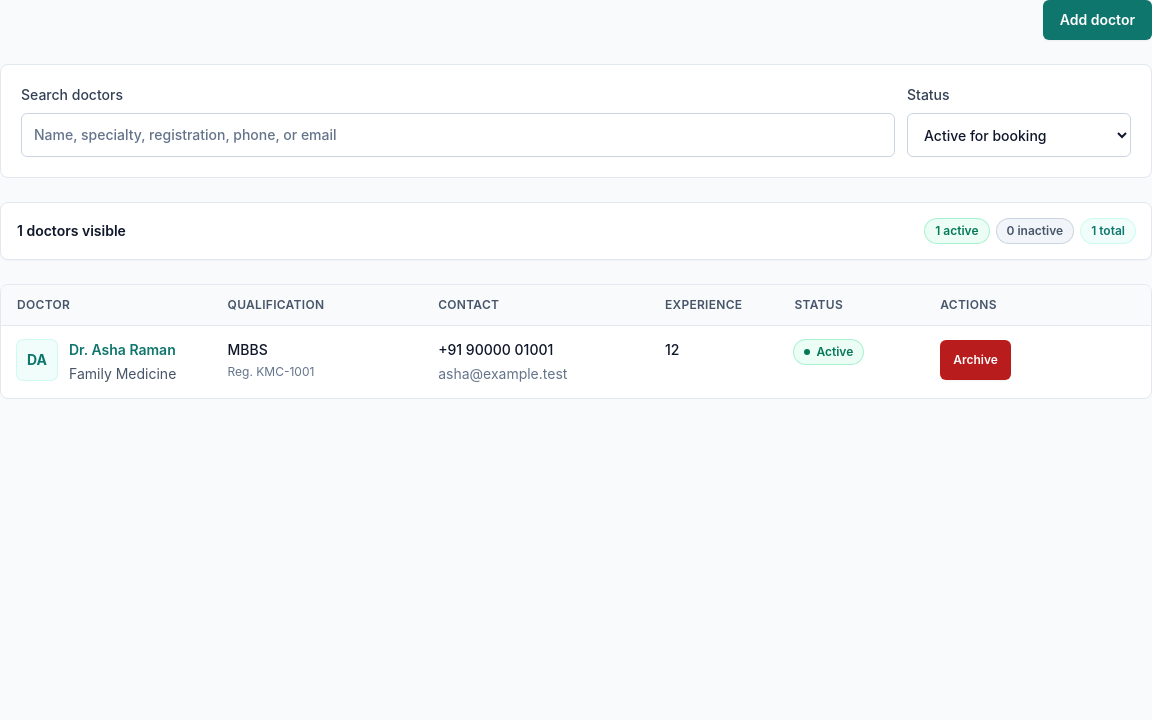
Scenario: DoctorsPage edit workflow › validates client fields before submitting
Click the button with aria-label "view profile for dr. asha raman".
click(122, 350)  # box [69, 340, 176, 360]
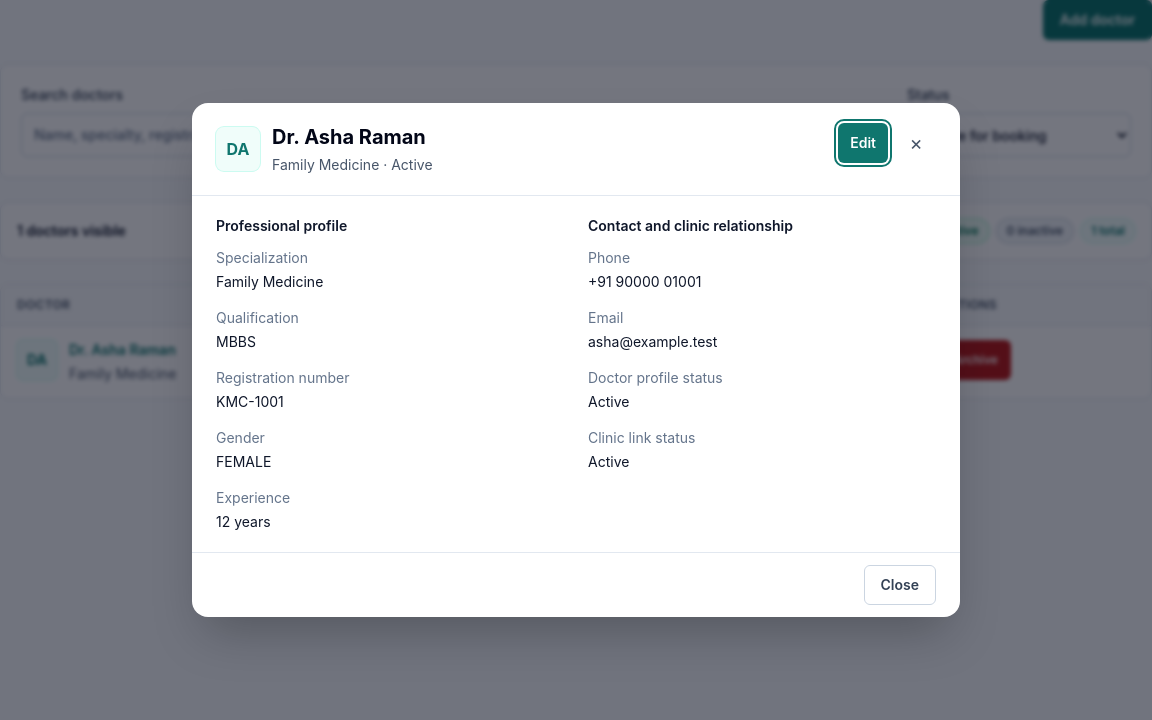
Click the button "Edit".
click(863, 143)  # box [838, 123, 888, 163]
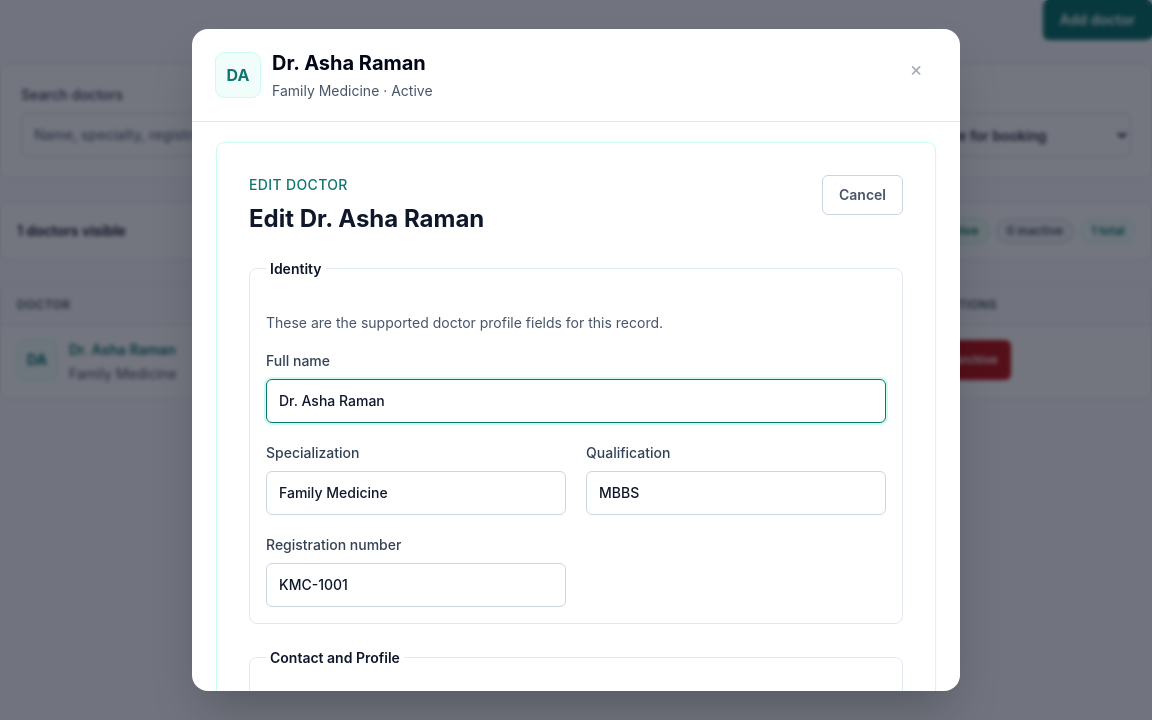
Replace the text in the field labelled "Full name" with "A" at [576, 401], box [266, 379, 886, 423]
(page scrolled)
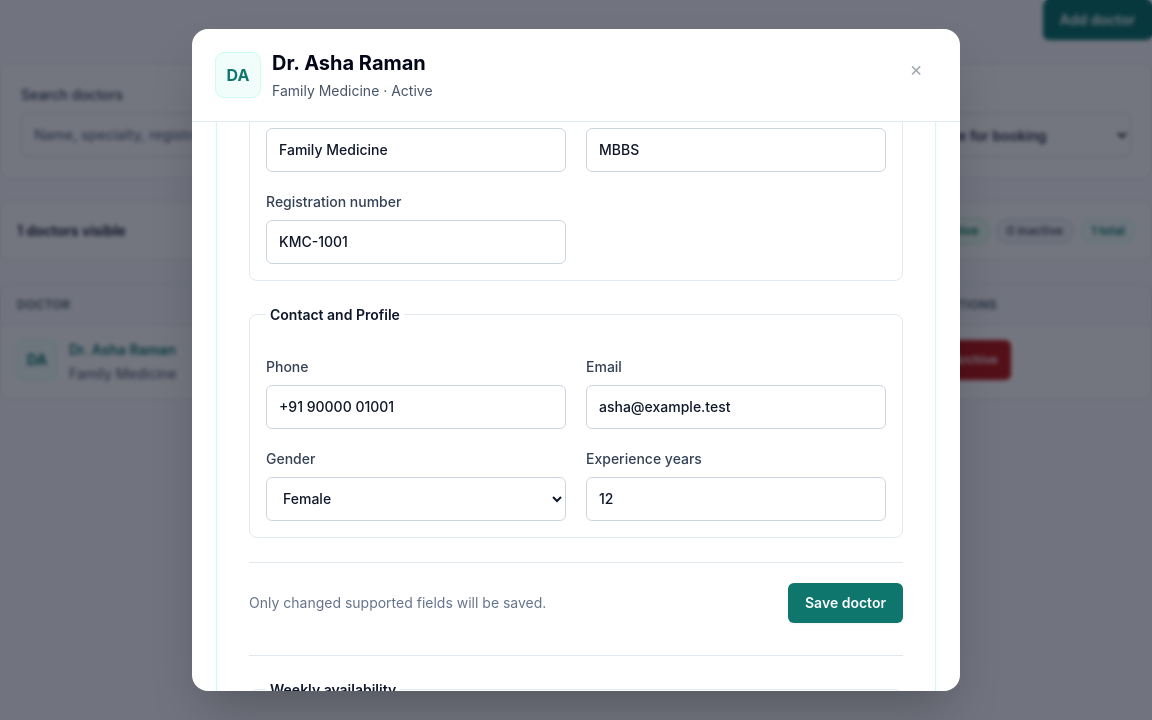
Replace the text in the field labelled "Email" with "not-an-email" at [736, 407], box [586, 385, 886, 429]
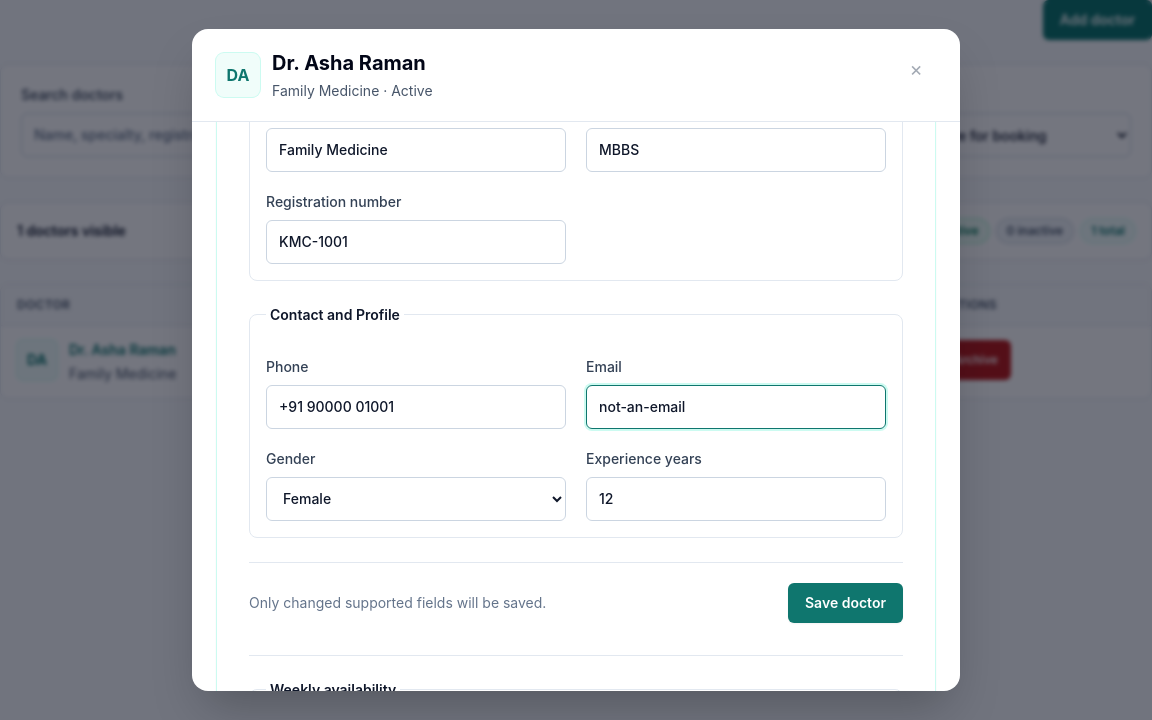
Replace the text in the field labelled "Experience years" with "-1" at [736, 499], box [586, 477, 886, 521]
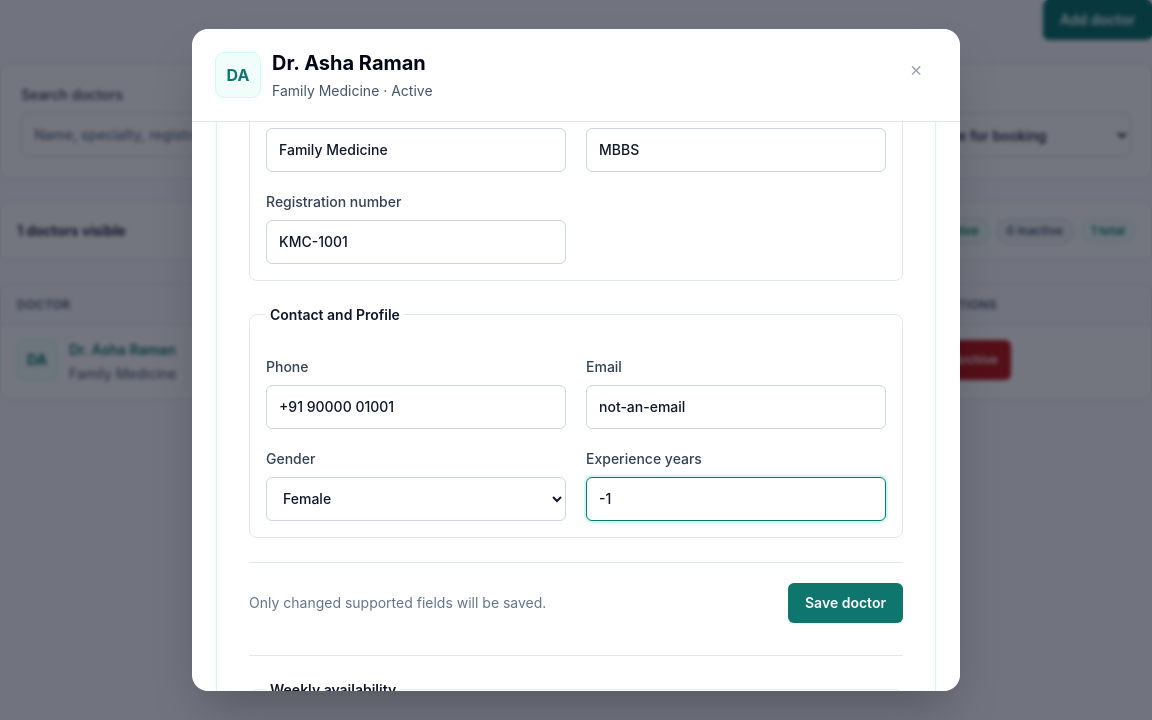
Click the button "Save doctor".
click(846, 603)  # box [788, 583, 903, 623]
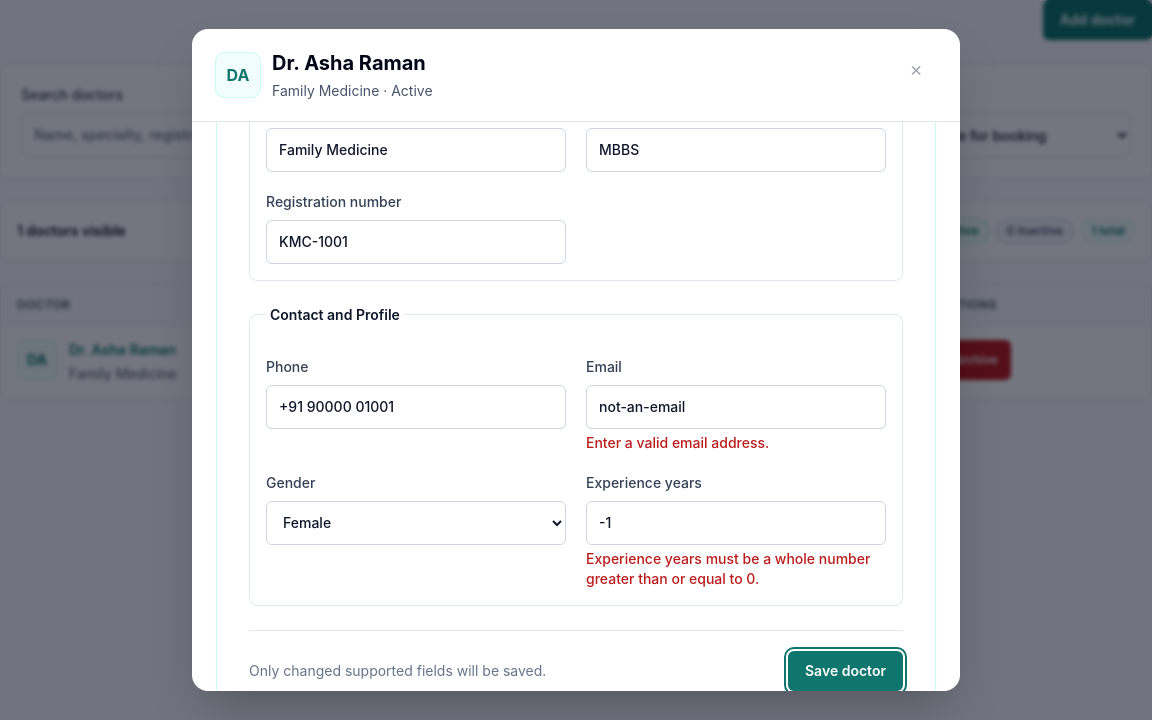
Now the text "Enter a valid email address." is shown, box [586, 434, 769, 451]
Now the text "Experience years must be a whole number greater than or equal to 0." is shown, box [586, 549, 886, 589]
